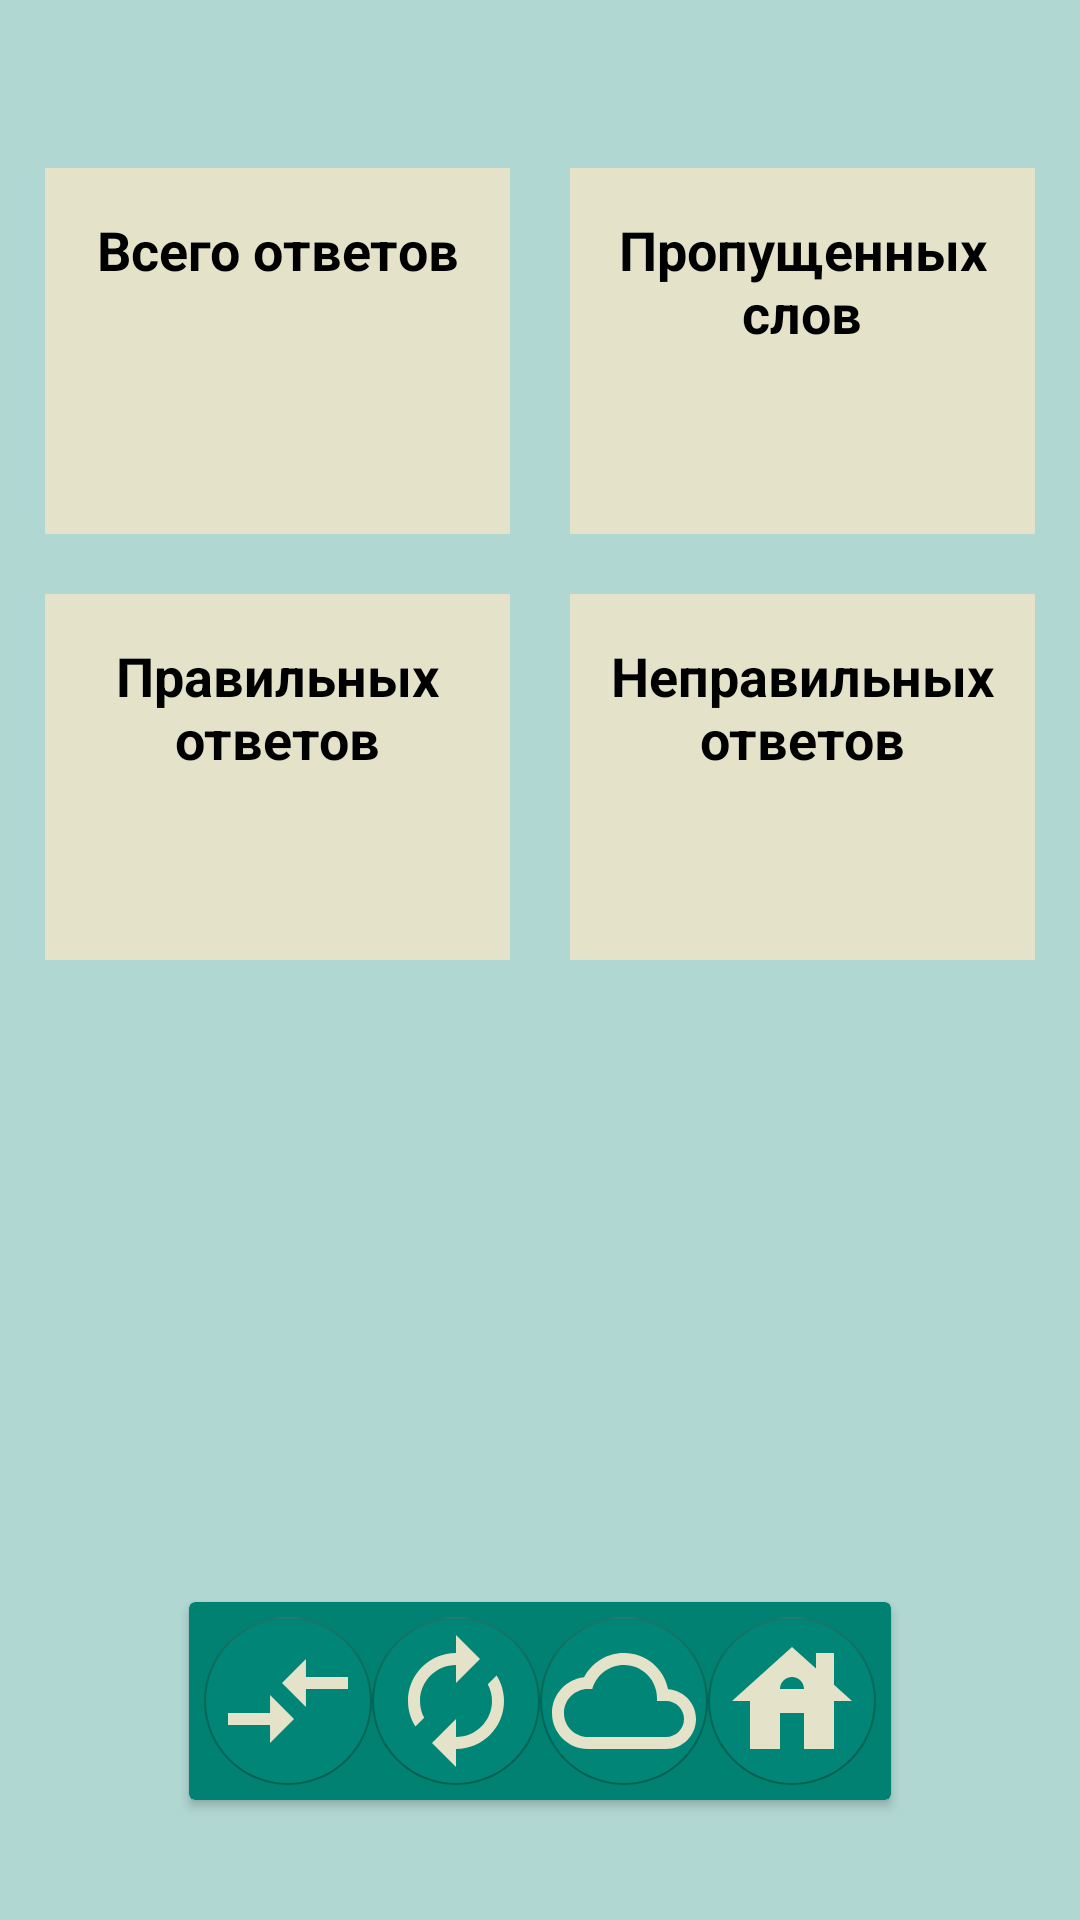

Point at icon controls on the screen. Image size 1080×1920, points as [x,y].
again: [456,1692]
change: [288,1680]
cloud queue: [624,1683]
home: [792,1683]
